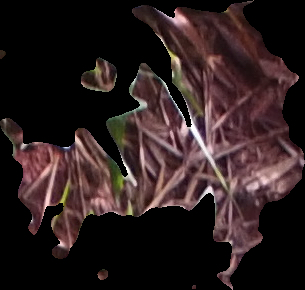soil: (1, 1, 305, 289)
